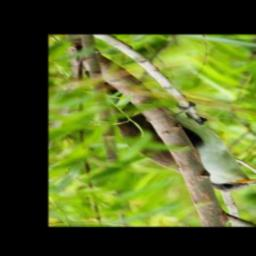Cuckoo: (72, 71, 256, 193)
